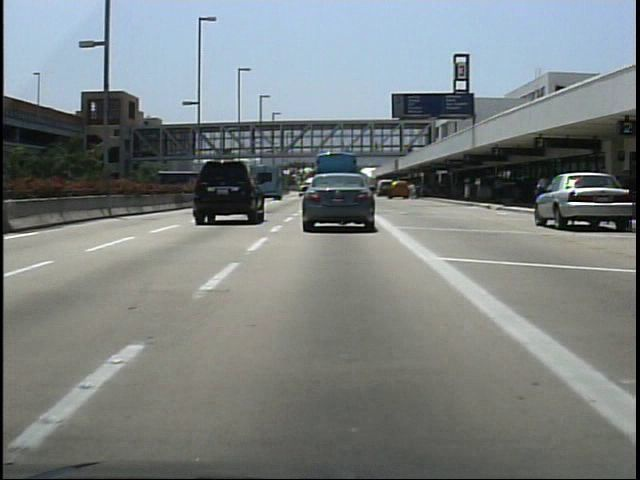person: (534, 169, 552, 210), (490, 173, 507, 207), (406, 178, 421, 205), (371, 136, 384, 158), (337, 136, 350, 156)
